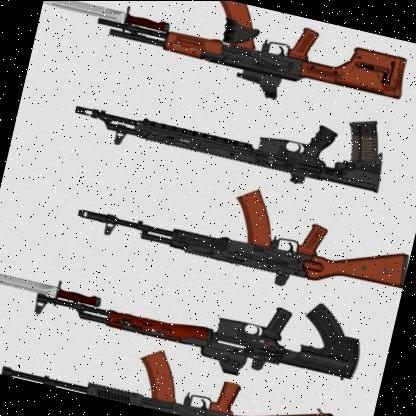rifle: (68, 155, 416, 322), (64, 53, 395, 209), (50, 243, 374, 395), (106, 0, 416, 119), (0, 312, 348, 416)
